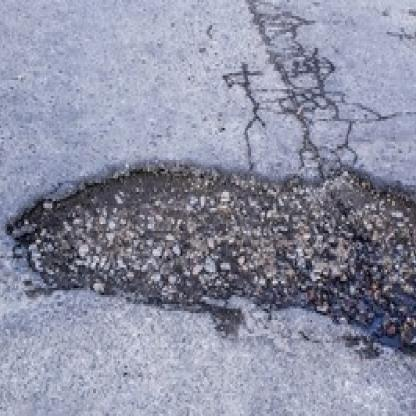pothole: (5, 158, 416, 363)
